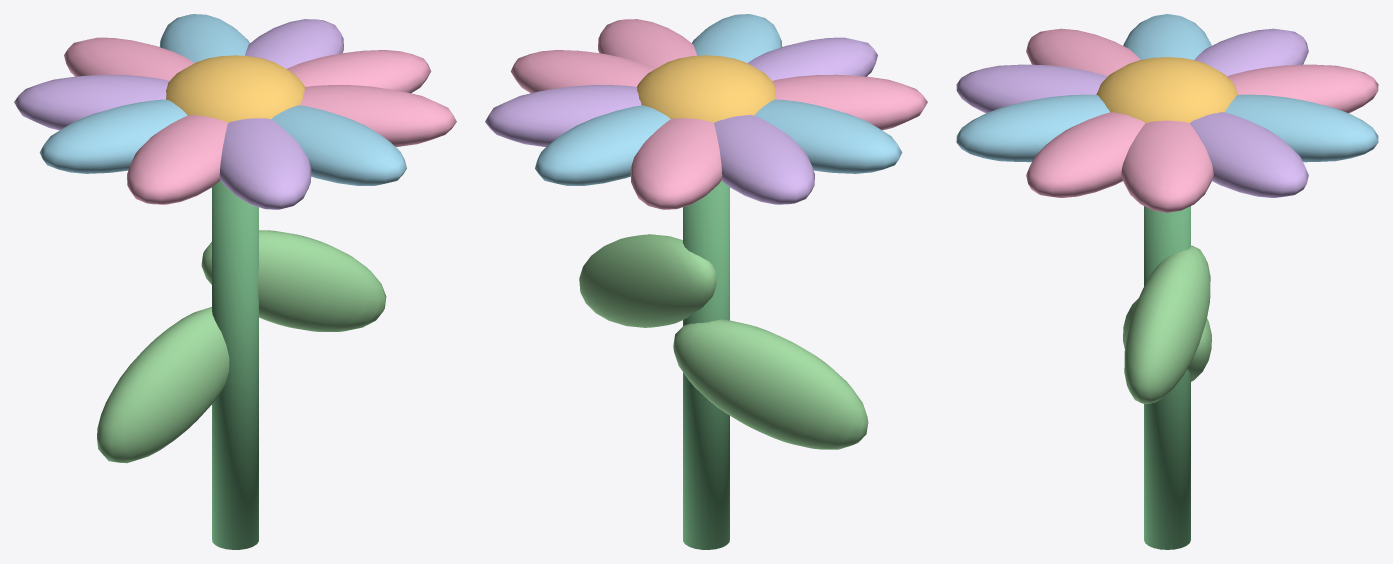
The model's file is MagicFlowerBloom.fbx.
3 renders of one model, left to right at view 1: azimuth 30°, elevation 25°; view 2: azimuth 150°, elevation 25°; view 3: azimuth 270°, elevation 25°, orthographic.
Visible parts, largest first — view 1: MagicFlowerBloom; view 2: MagicFlowerBloom; view 3: MagicFlowerBloom.
Part boxes in pixels (left/top/right/bottom): MagicFlowerBloom: left=14, top=14, right=456, bottom=549; MagicFlowerBloom: left=485, top=14, right=927, bottom=549; MagicFlowerBloom: left=956, top=14, right=1378, bottom=549.
Size of the model in its own units: 0.66 by 0.775 by 0.6277.
